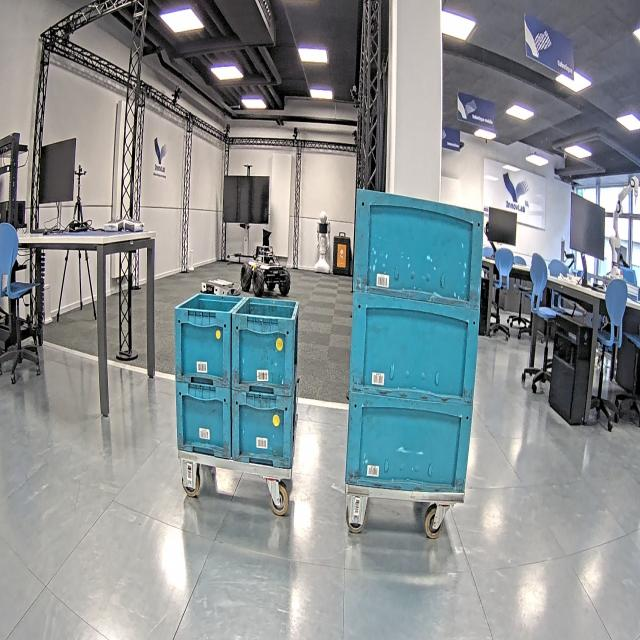BoxB4: (353, 188, 485, 311), (350, 294, 481, 406), (345, 389, 476, 495)
BoxB8: (232, 295, 300, 397), (174, 290, 244, 388), (232, 387, 298, 470), (175, 381, 232, 462)
